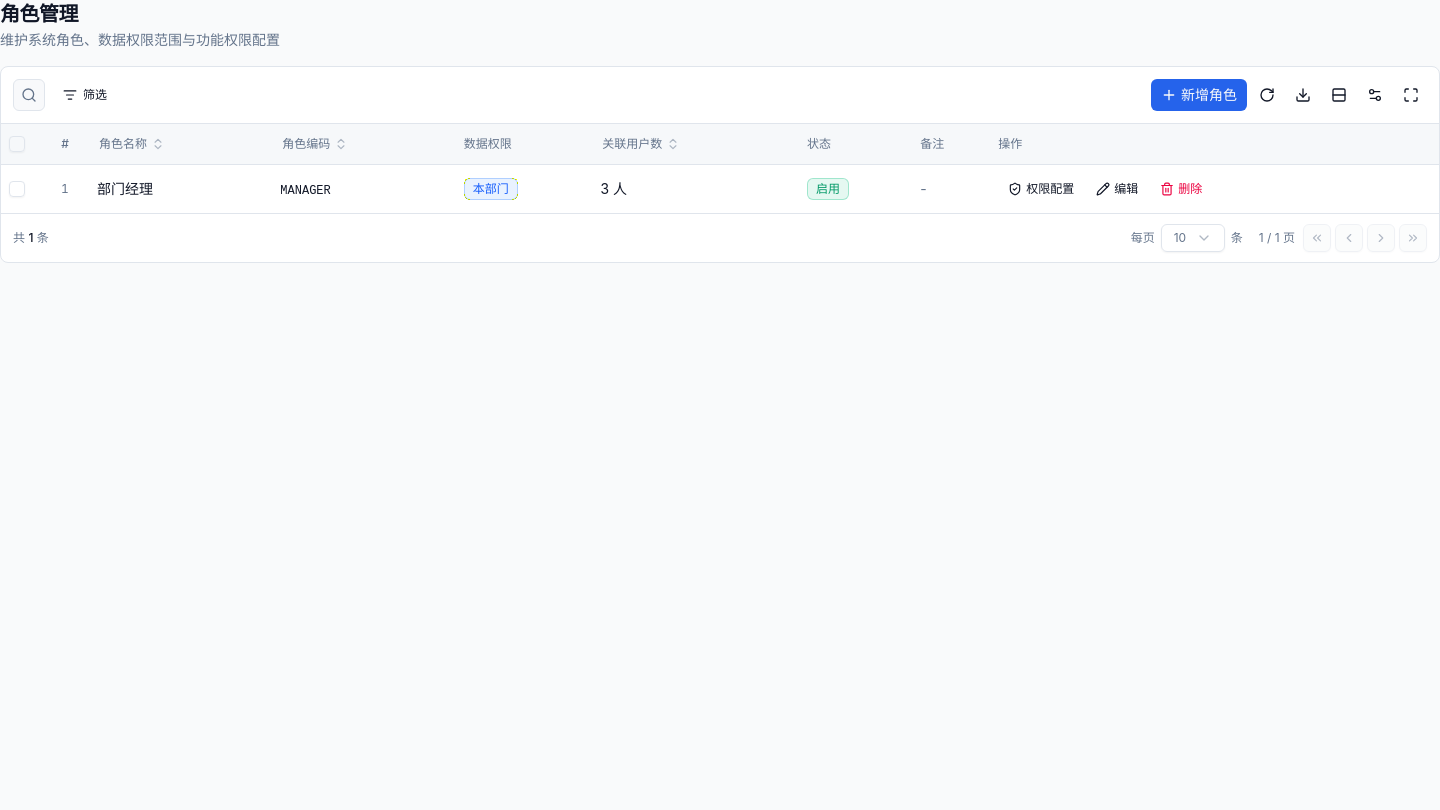
Test: 角色详情 Sheet（四 Tab） › 功能权限 Tab：权限树加载（回填勾选）+ 保存权限配置按钮
Click the button "编辑": (1117, 188) [1086, 174, 1148, 202]
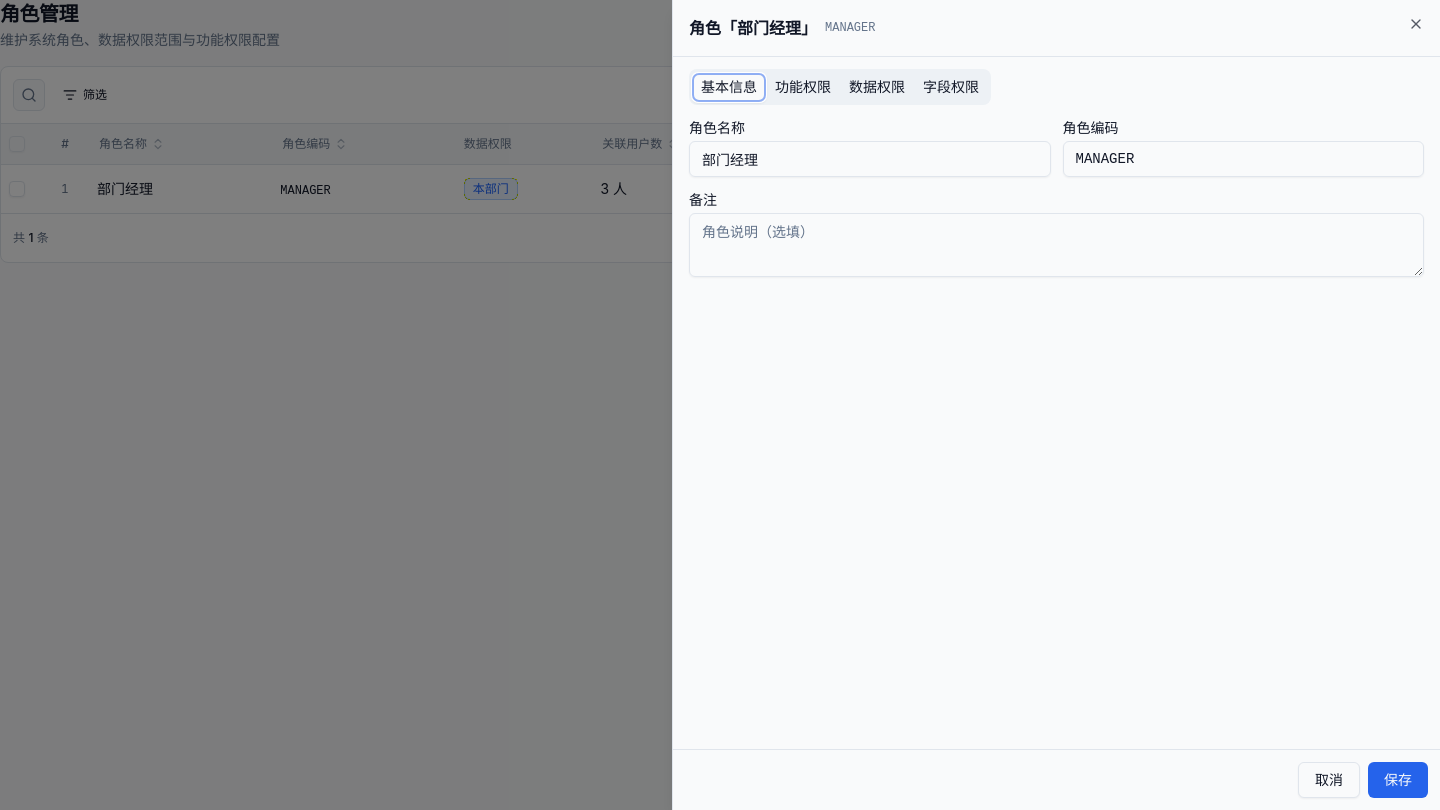
Result: the heading "角色「部门经理」 MANAGER" is shown at [689, 18, 876, 38]
Click the tab "功能权限": (803, 87) [766, 72, 840, 102]
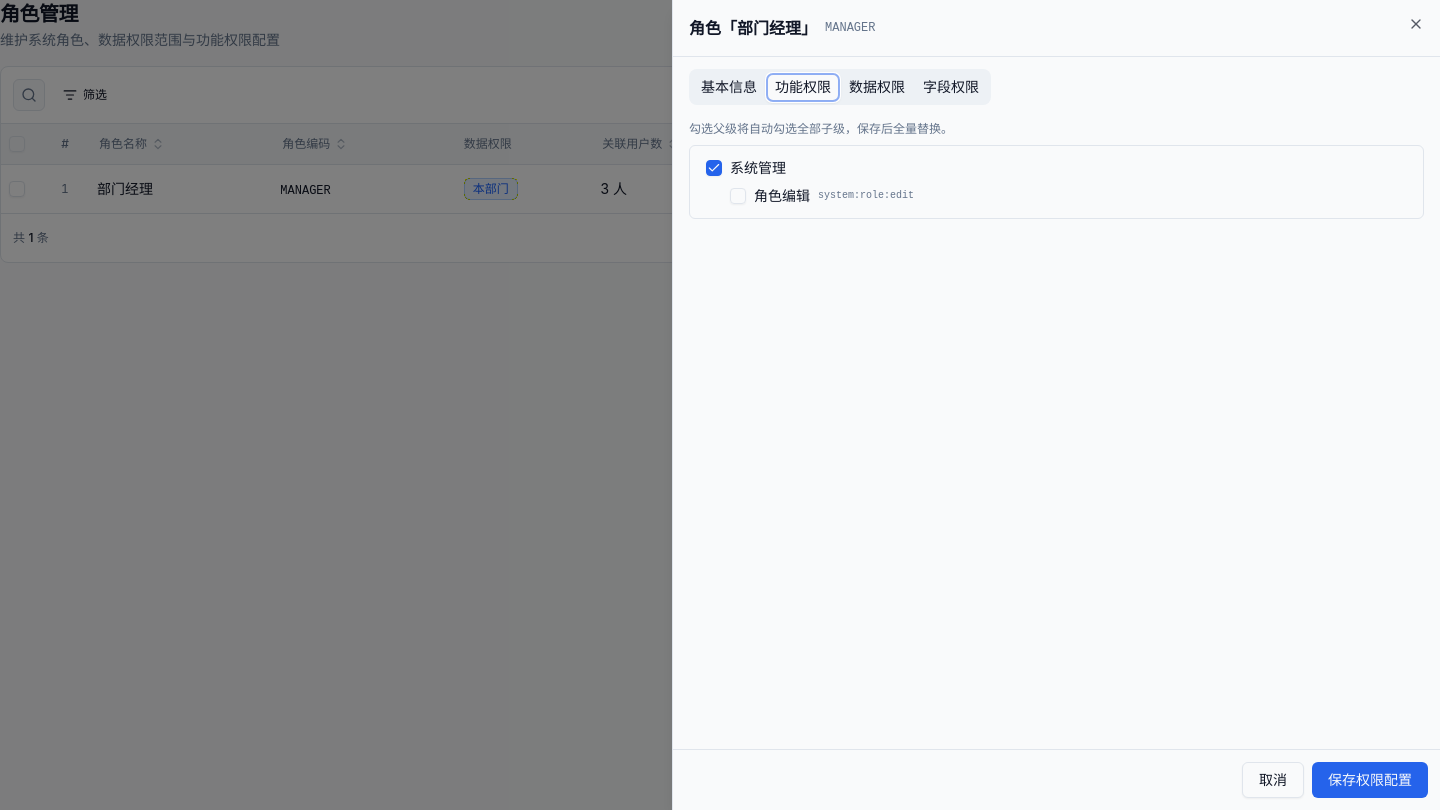
Result: the text "系统管理" is shown at [730, 161, 786, 175]
Result: the text "角色编辑" is shown at [754, 189, 810, 203]
Result: the button "保存权限配置" is shown at [1312, 762, 1428, 798]
